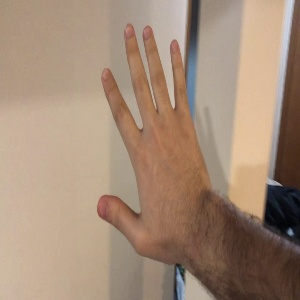hand: (97, 24, 211, 255)
